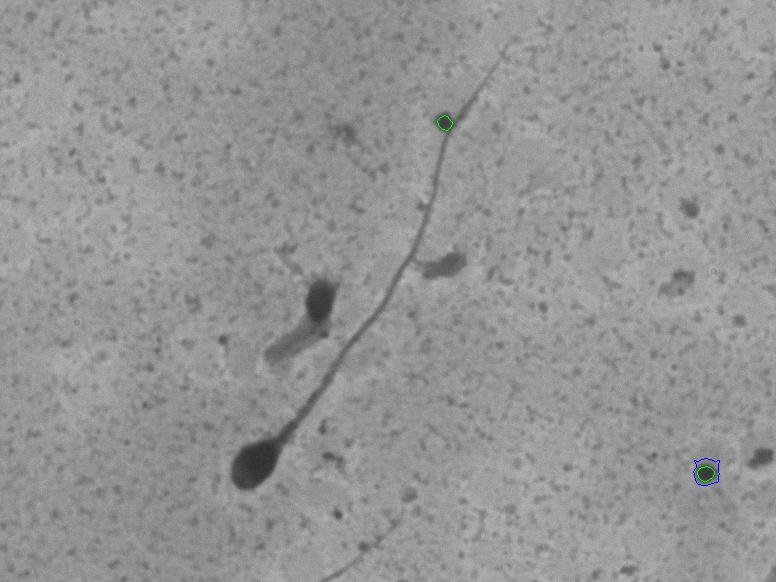Normal: (209, 33, 528, 507)
